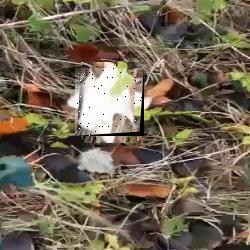restaffald: (75, 68, 144, 136)
